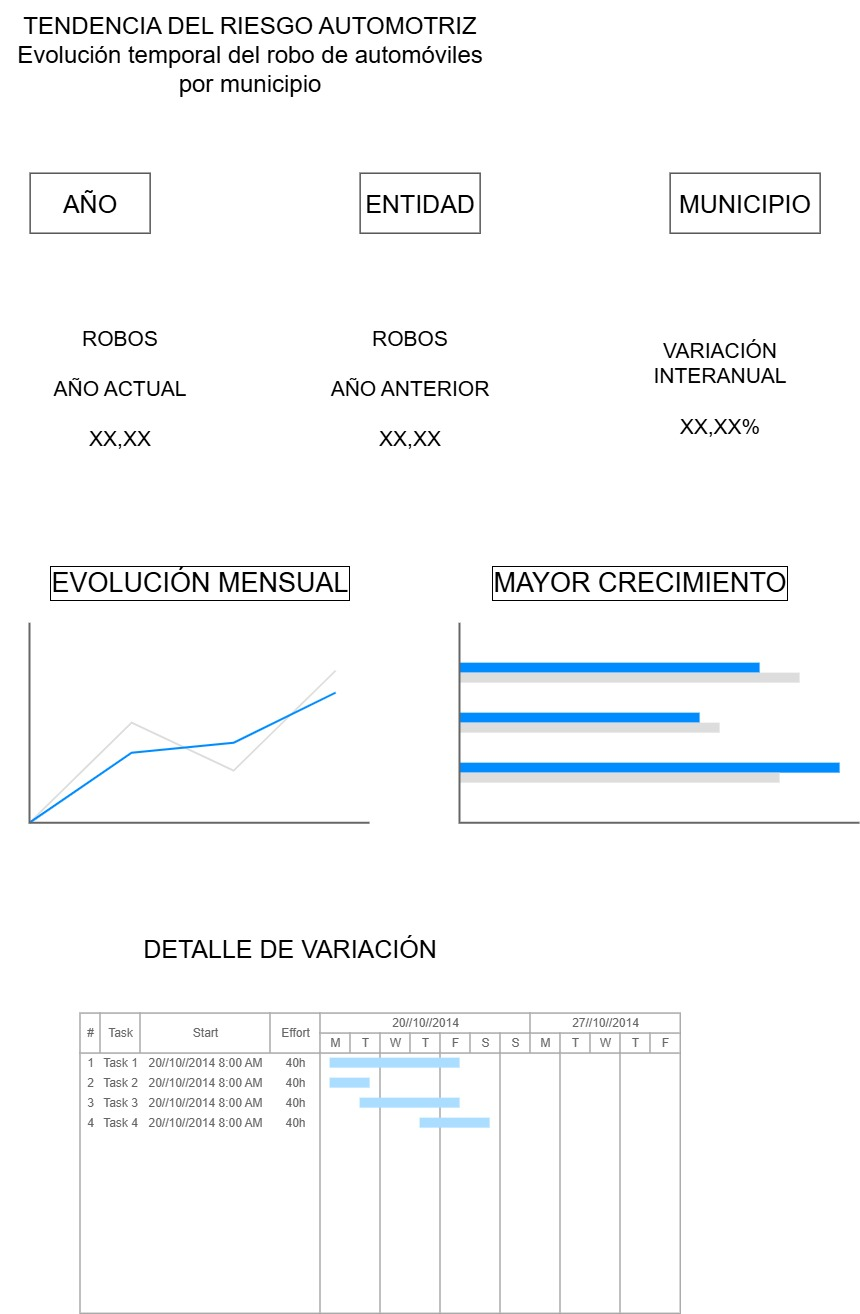

The page's visual inventory and layout, read from the dashboard file:
{"tool":"powerbi","page":{"name":"Tendencia del Riesgo","canvas":[1080,1600],"ordinal":1},"visuals":[{"type":"slicer","fields":{"Values":["DimFecha.Año"]},"box":[46.7,150,280,126.7],"z":0},{"type":"cardVisual","fields":{"Data":["Medidas.Robos Totales"]},"box":[46.7,260,280,126],"z":1000},{"type":"cardVisual","fields":{"Data":["Medidas.Robos Año Anterior"]},"box":[400,260,280,126],"z":2000},{"type":"cardVisual","fields":{"Data":["Medidas.Variación YoY"]},"box":[738.3,260,280,126],"z":3000},{"type":"slicer","fields":{"Values":["DimMunicipio.Entidad"]},"box":[400,150,280,126],"z":4000},{"type":"textbox","box":[0,0,820,150],"z":5000},{"type":"slicer","fields":{"Values":["DimMunicipio.Municipio"]},"box":[738.3,150,280,126],"z":6000},{"type":"lineChart","title":"Evolución mensual del robo de automóviles","fields":{"Category":["DimFecha.Date"],"Y":["Medidas.Robos Totales"]},"box":[91.7,421.7,836.7,365],"z":7000},{"type":"clusteredBarChart","title":"MUNICIPIOS CON MAYOR AUMENTO INTERANUAL","fields":{"Category":["DimMunicipio.Municipio Entidad"],"Y":["DimFecha.Cambio Absoluto YoY"]},"box":[91.7,823.3,836.7,373.3],"z":8000},{"type":"tableEx","fields":{"Values":["DimMunicipio.Municipio","DimMunicipio.Entidad","Medidas.Robos Totales","Medidas.Robos Año Anterior","DimFecha.Cambio Absoluto YoY","Medidas.Variación YoY"]},"box":[63.3,1256.7,955,343.3],"z":9000}]}

Visuals, with their boxes on the page's 1080x1600 design canvas (x1, y1, x2, y2). These are canvas units, not pixel positions in the 860x1314 screenshot, which may show the page scaled, cropped or inside an application window:
slicer - DimFecha.Año: <region>47, 150, 327, 277</region>
cardVisual - Medidas.Robos Totales: <region>47, 260, 327, 386</region>
cardVisual - Medidas.Robos Año Anterior: <region>400, 260, 680, 386</region>
cardVisual - Medidas.Variación YoY: <region>738, 260, 1018, 386</region>
slicer - DimMunicipio.Entidad: <region>400, 150, 680, 276</region>
textbox: <region>0, 0, 820, 150</region>
slicer - DimMunicipio.Municipio: <region>738, 150, 1018, 276</region>
"Evolución mensual del robo de automóviles" lineChart: <region>92, 422, 928, 787</region>
"MUNICIPIOS CON MAYOR AUMENTO INTERANUAL" clusteredBarChart: <region>92, 823, 928, 1197</region>
tableEx - DimMunicipio.Municipio x DimMunicipio.Entidad: <region>63, 1257, 1018, 1600</region>
